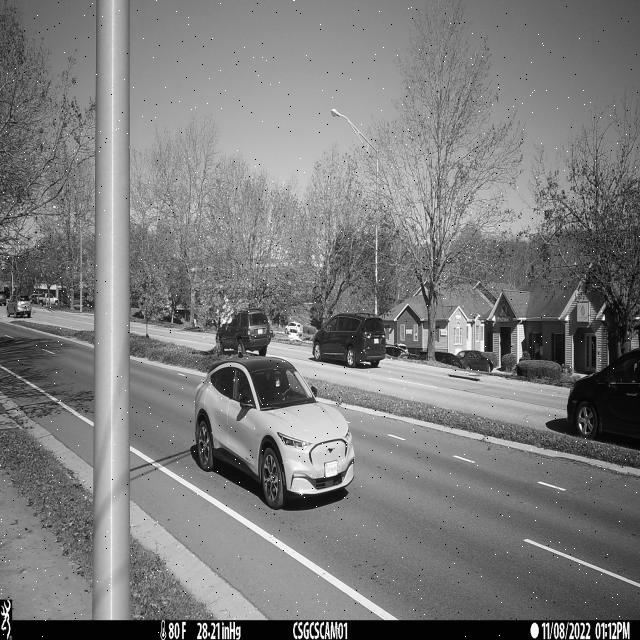SUV: (193, 354, 356, 509)
